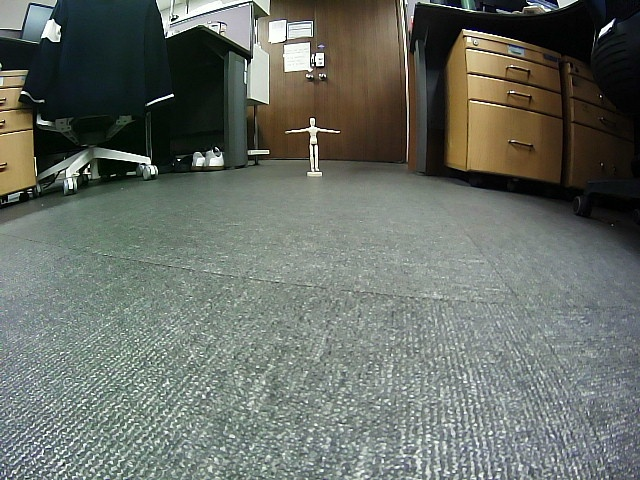person: (284, 116, 341, 172)
